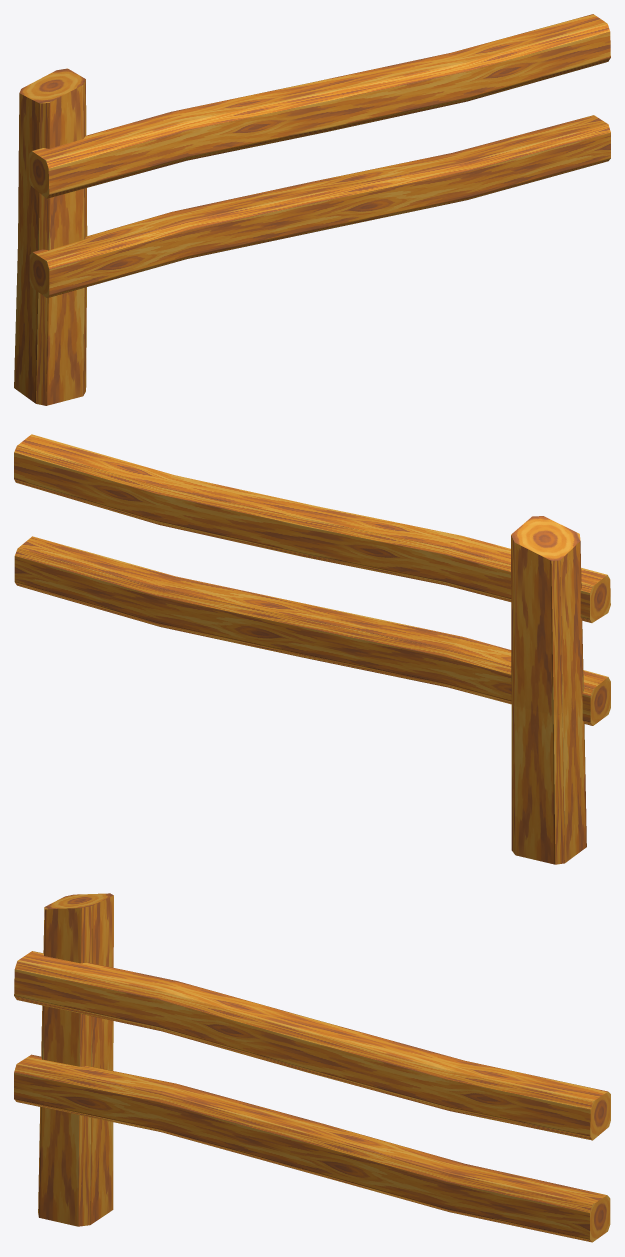
Rendered from fence_w_200.glb.
The picture shows the model from 3 angles, top to bottom: view 1: azimuth 30°, elevation 25°; view 2: azimuth 150°, elevation 25°; view 3: azimuth 330°, elevation 25°; orthographic projection. The views are drawn at different scales.
Visible parts, largest first — view 1: fence_w_200; view 2: fence_w_200; view 3: fence_w_200.
Part boxes in pixels (x1,y1,x2,y2): fence_w_200: (14, 14, 610, 405); fence_w_200: (14, 434, 610, 864); fence_w_200: (14, 893, 610, 1242).
Size of the model in its own units: 2.24 by 1.19 by 0.3051.
1 material, 1 textured.
